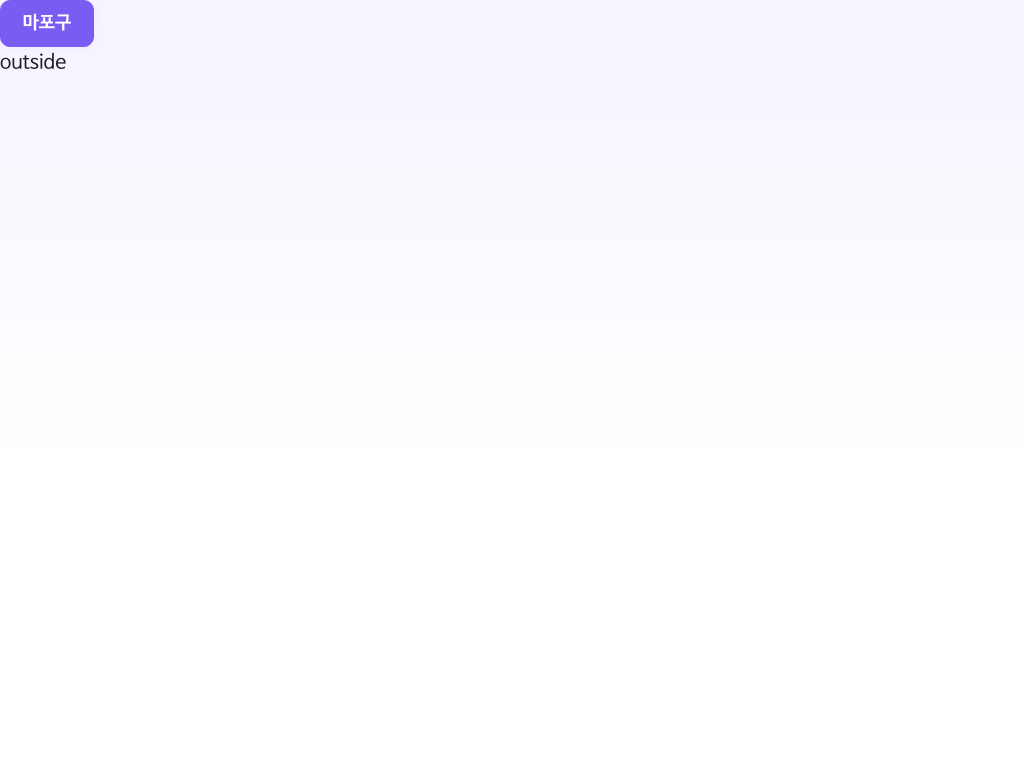
Test case: the box (R1-4; one 거주 only since user 2026-10-20) › holds only 거주 and the my page line: no 일하는 곳, 직접 추가, 가입 방법 or [마이페이지에서 전체 보기]
This screenshot has width=1024, height=768.
Step 1. Click the button "마포구" → x=47, y=23, box [0,0,94,47]
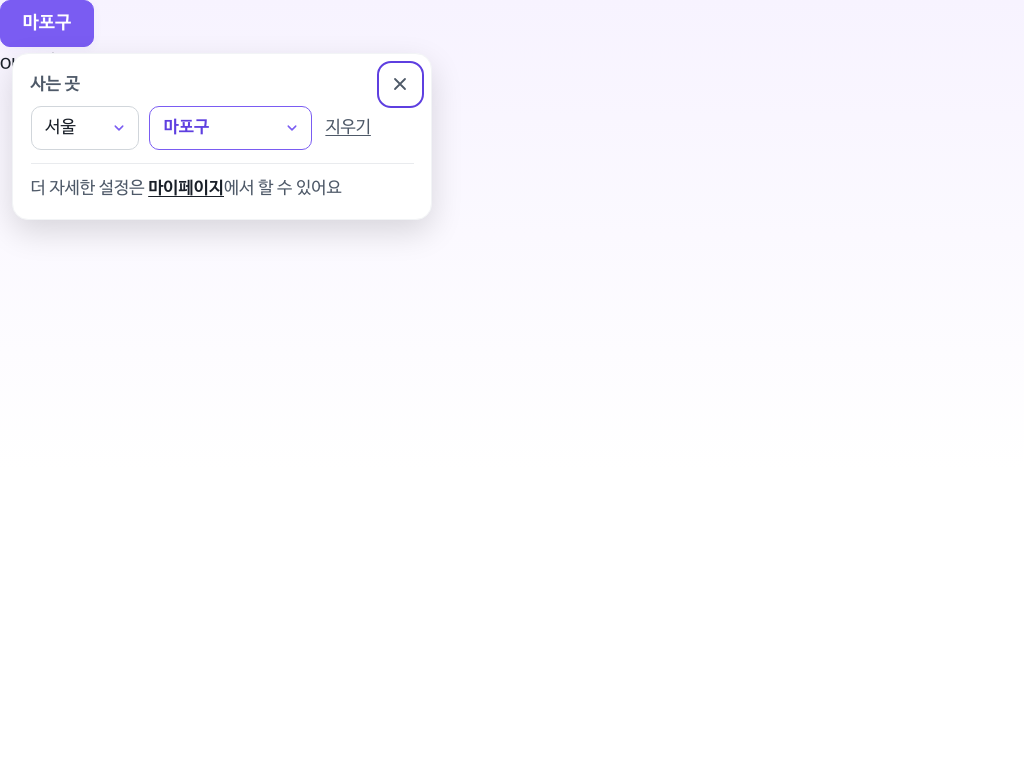
Check: the headings read "사는 곳", in this order, box [31,75,80,94]
Check: the text "더 자세한 설정은 마이페이지 에서 할 수 있어요" is shown, box [31,163,414,202]
